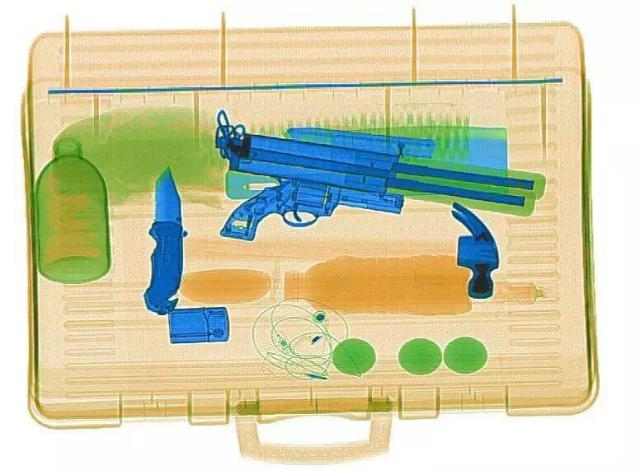Gun: (209, 106, 547, 242)
Knife: (140, 164, 190, 318)
